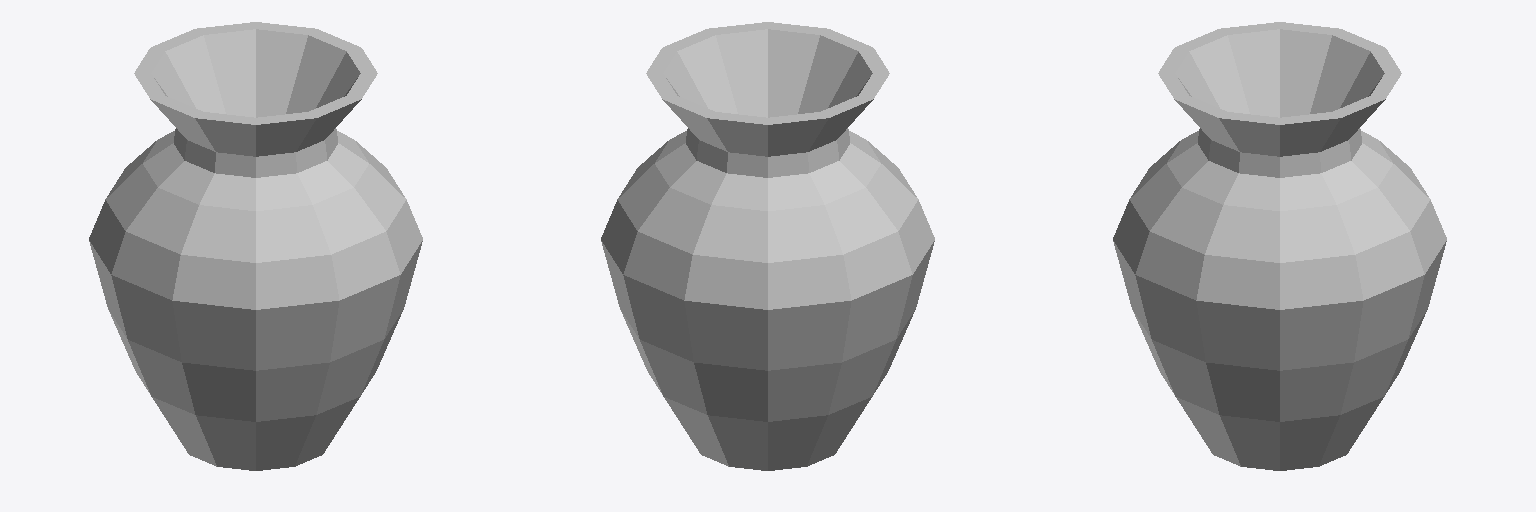
File: Asset_vase_court_01.obj
3 renders of one model, left to right at view 1: azimuth 30°, elevation 25°; view 2: azimuth 150°, elevation 25°; view 3: azimuth 270°, elevation 25°, orthographic.
Parts seen in each view (by area): view 1: Vase_court_01; view 2: Vase_court_01; view 3: Vase_court_01.
Part boxes in pixels (x1,y1,x2,y2): Vase_court_01: (89, 22, 422, 470); Vase_court_01: (601, 22, 934, 470); Vase_court_01: (1113, 22, 1446, 470).
Bounding box in the file's own units: 144 × 173 × 144.